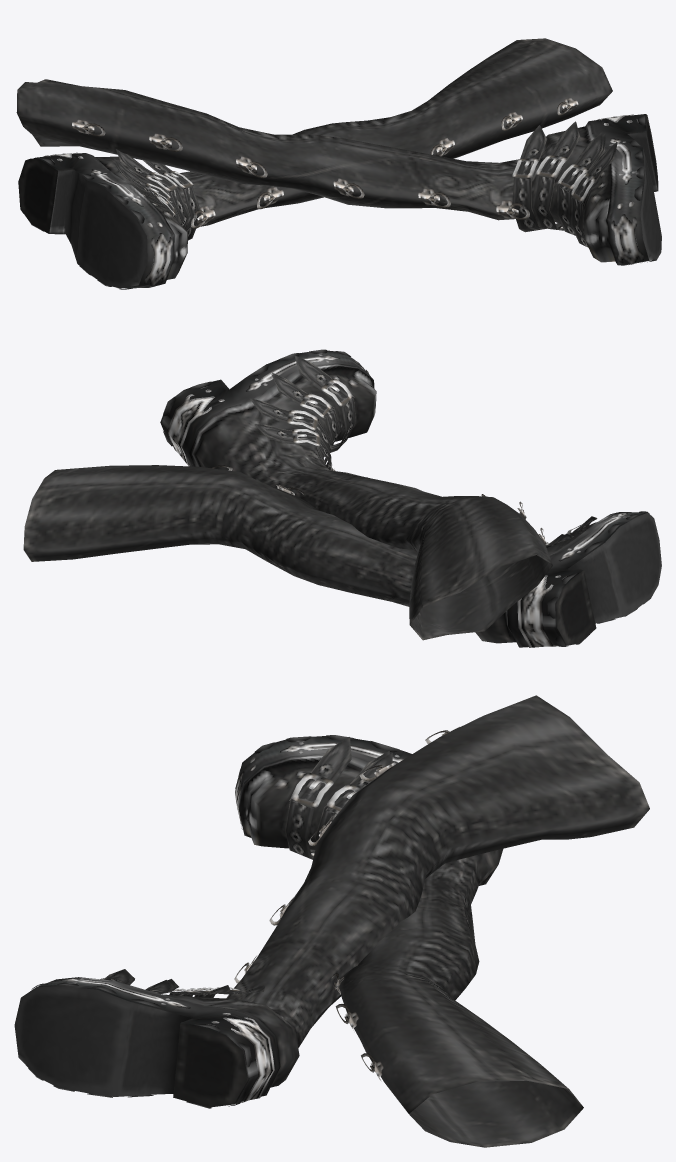
Rendered from Goth_Thigh_Ground.fbx.
The picture shows the model from 3 angles, top to bottom: view 1: azimuth 30°, elevation 25°; view 2: azimuth 150°, elevation 25°; view 3: azimuth 270°, elevation 25°; orthographic projection. The views are drawn at different scales.
Visible parts, largest first — view 1: Goth_Thigh; view 2: Goth_Thigh; view 3: Goth_Thigh.
Boxes of the visible parts, left/top/right/bottom form: Goth_Thigh: left=16, top=38, right=661, bottom=289; Goth_Thigh: left=23, top=349, right=661, bottom=647; Goth_Thigh: left=14, top=695, right=649, bottom=1147.
Bounding box in the file's own units: 0.3916 × 0.1013 × 0.3363.
